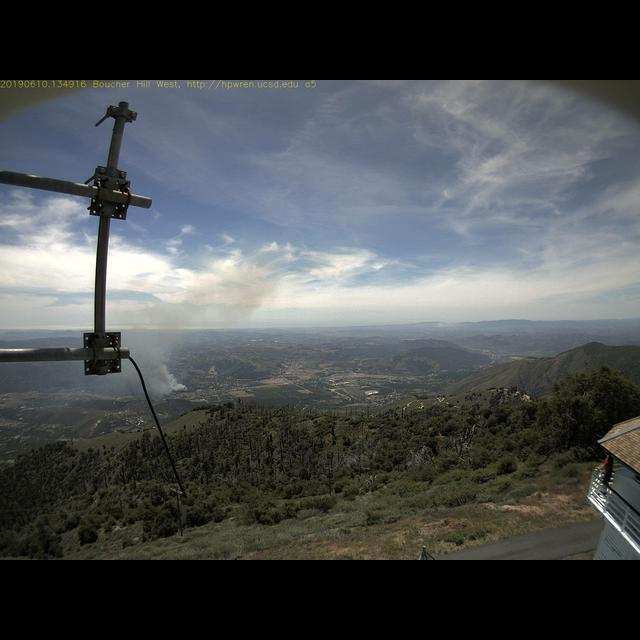Smoke: (121, 261, 271, 400)
